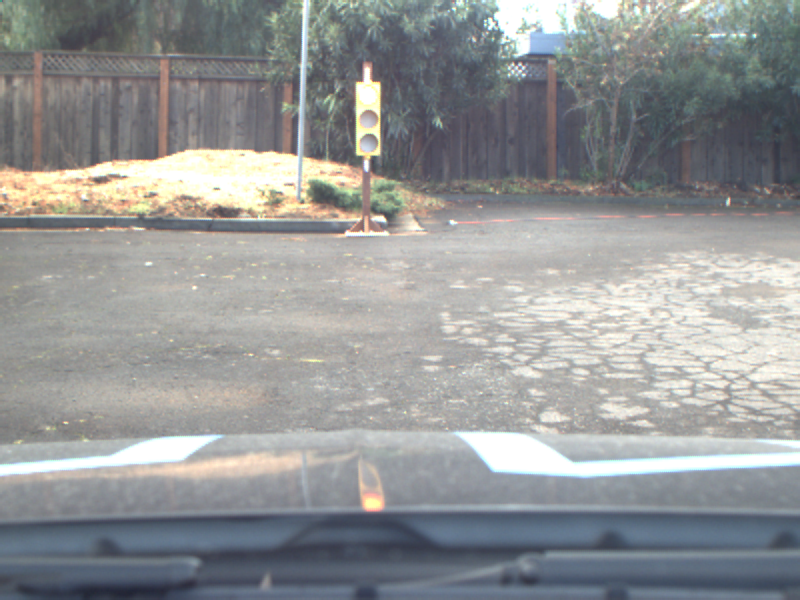Red: (356, 82, 381, 156)
